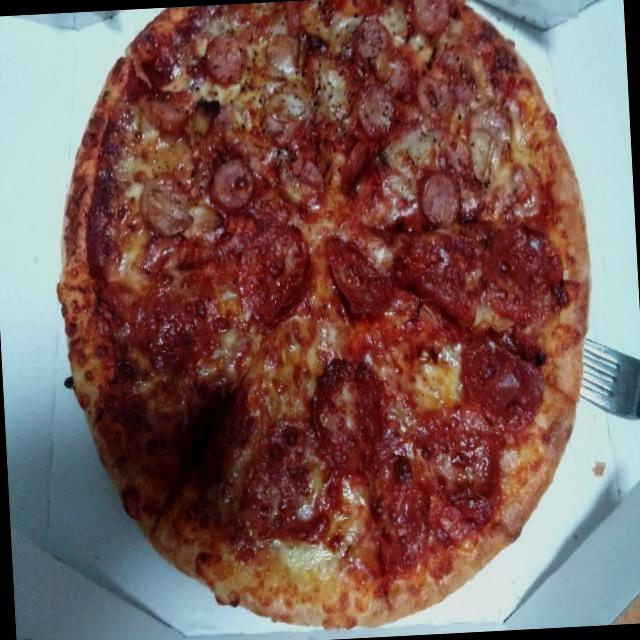Pizza: (31, 0, 618, 640)
